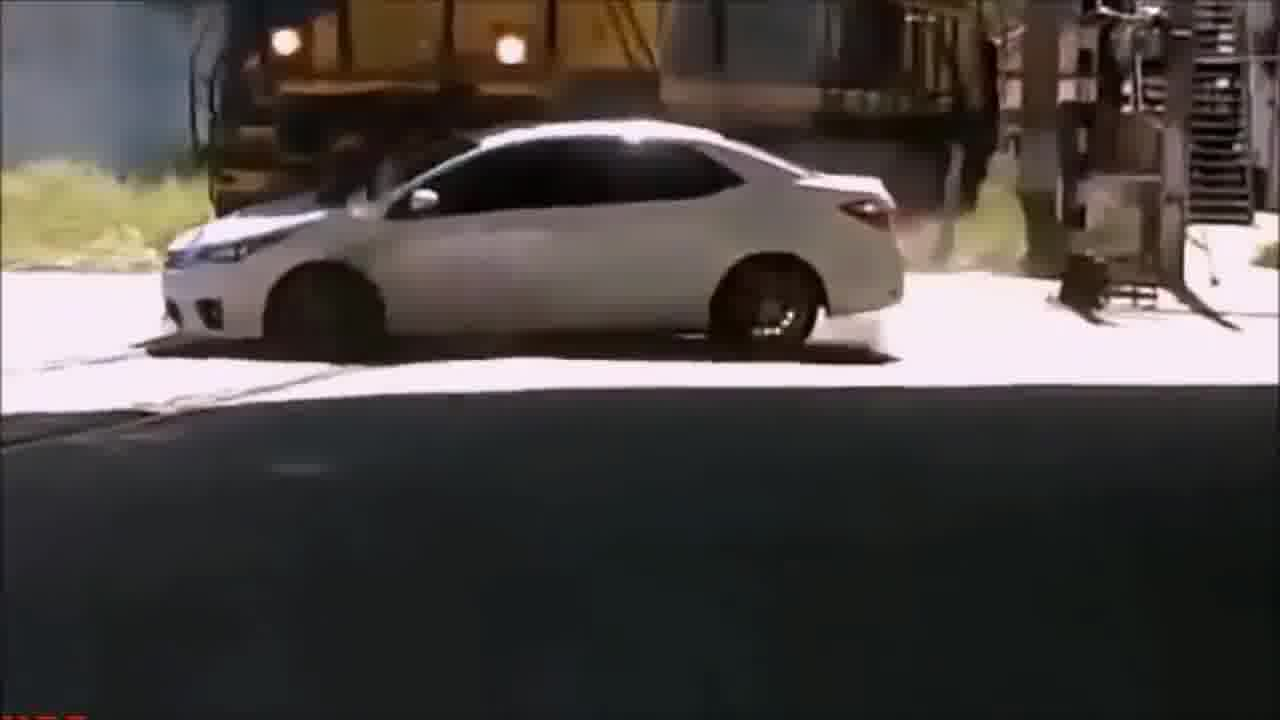crossing railway track: (129, 108, 963, 371)
